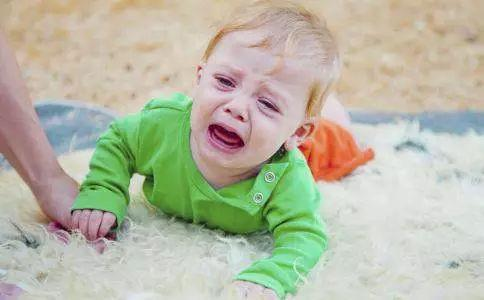Fall-Detected: (57, 0, 370, 296)
